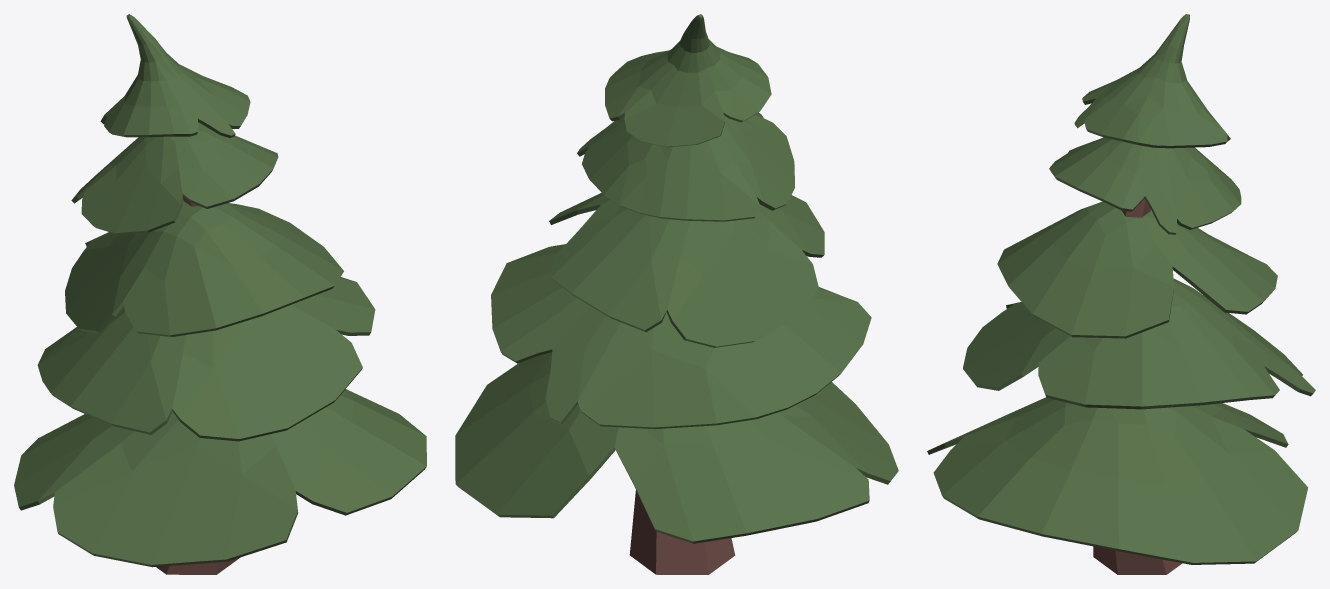
Rendered from GL_Tree 2.fbx.
3 views of the same model, side by side, from view 1: azimuth 30°, elevation 25°; view 2: azimuth 150°, elevation 25°; view 3: azimuth 270°, elevation 25° (orthographic). The views are drawn at different scales.
Visible parts, largest first — view 1: PineTree_1; view 2: PineTree_1; view 3: PineTree_1.
Part boxes in pixels (box(x1,y1,x2,y2)): PineTree_1: box(14, 14, 426, 574); PineTree_1: box(455, 14, 898, 574); PineTree_1: box(927, 14, 1315, 574).
Bounding box in the file's own units: 273 × 376 × 253.
